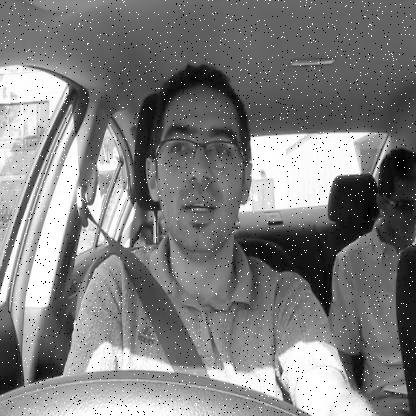seatbelt: (72, 46, 256, 414)
